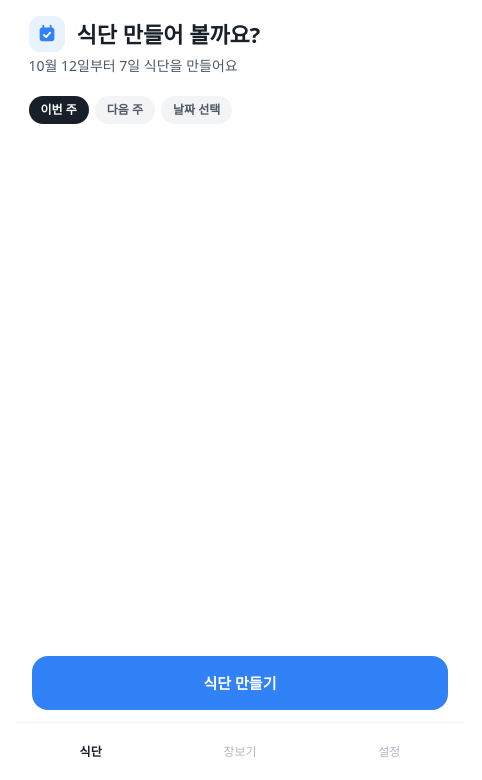
Test case: App › opens on the 식단 tab and can switch to the other tabs
The image size is (482, 780).
expect the heading "식단 만들어 볼까요?" is shown: met, box [76,19,260,49]
Click the button "설정".
click(389, 752)  # box [315,723,464,779]
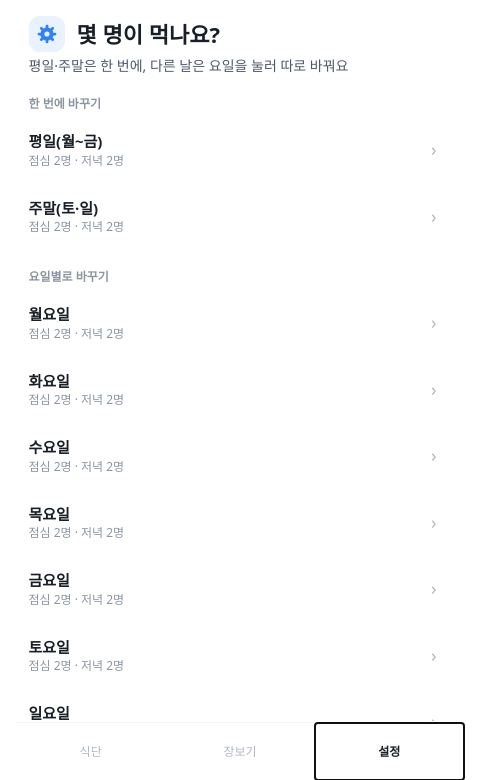
expect the heading "몇 명이 먹나요?" is shown: met, box [76,19,220,49]
Click the button "장보기".
click(240, 752)  # box [165,723,315,779]
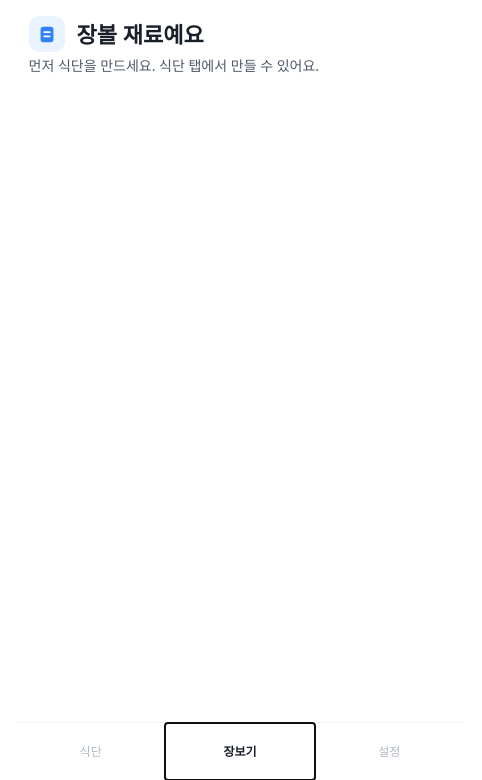
expect the text "먼저 식단을 만드세요. 식단 탭에서 만들 수 있어요." is shown: met, box [28,56,319,75]
